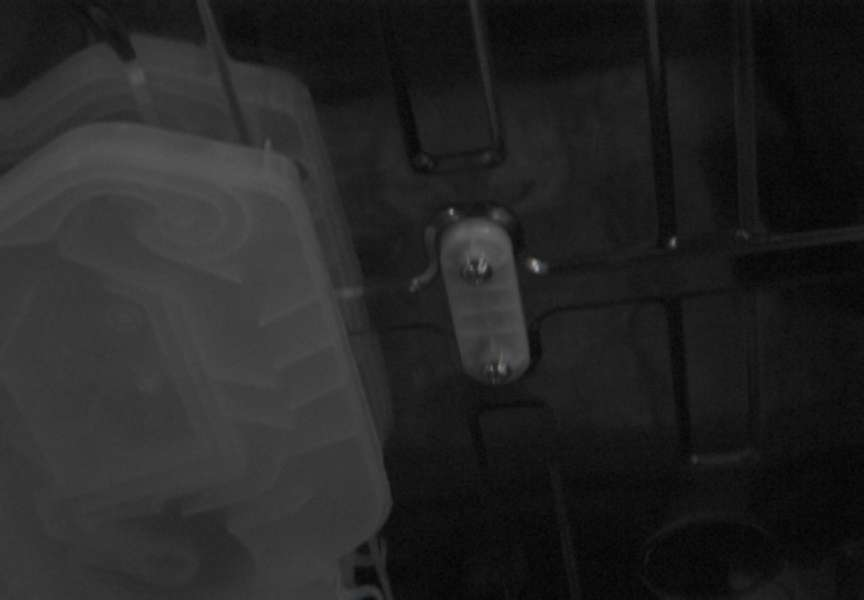screw: (460, 255, 493, 286), (483, 358, 512, 385)
